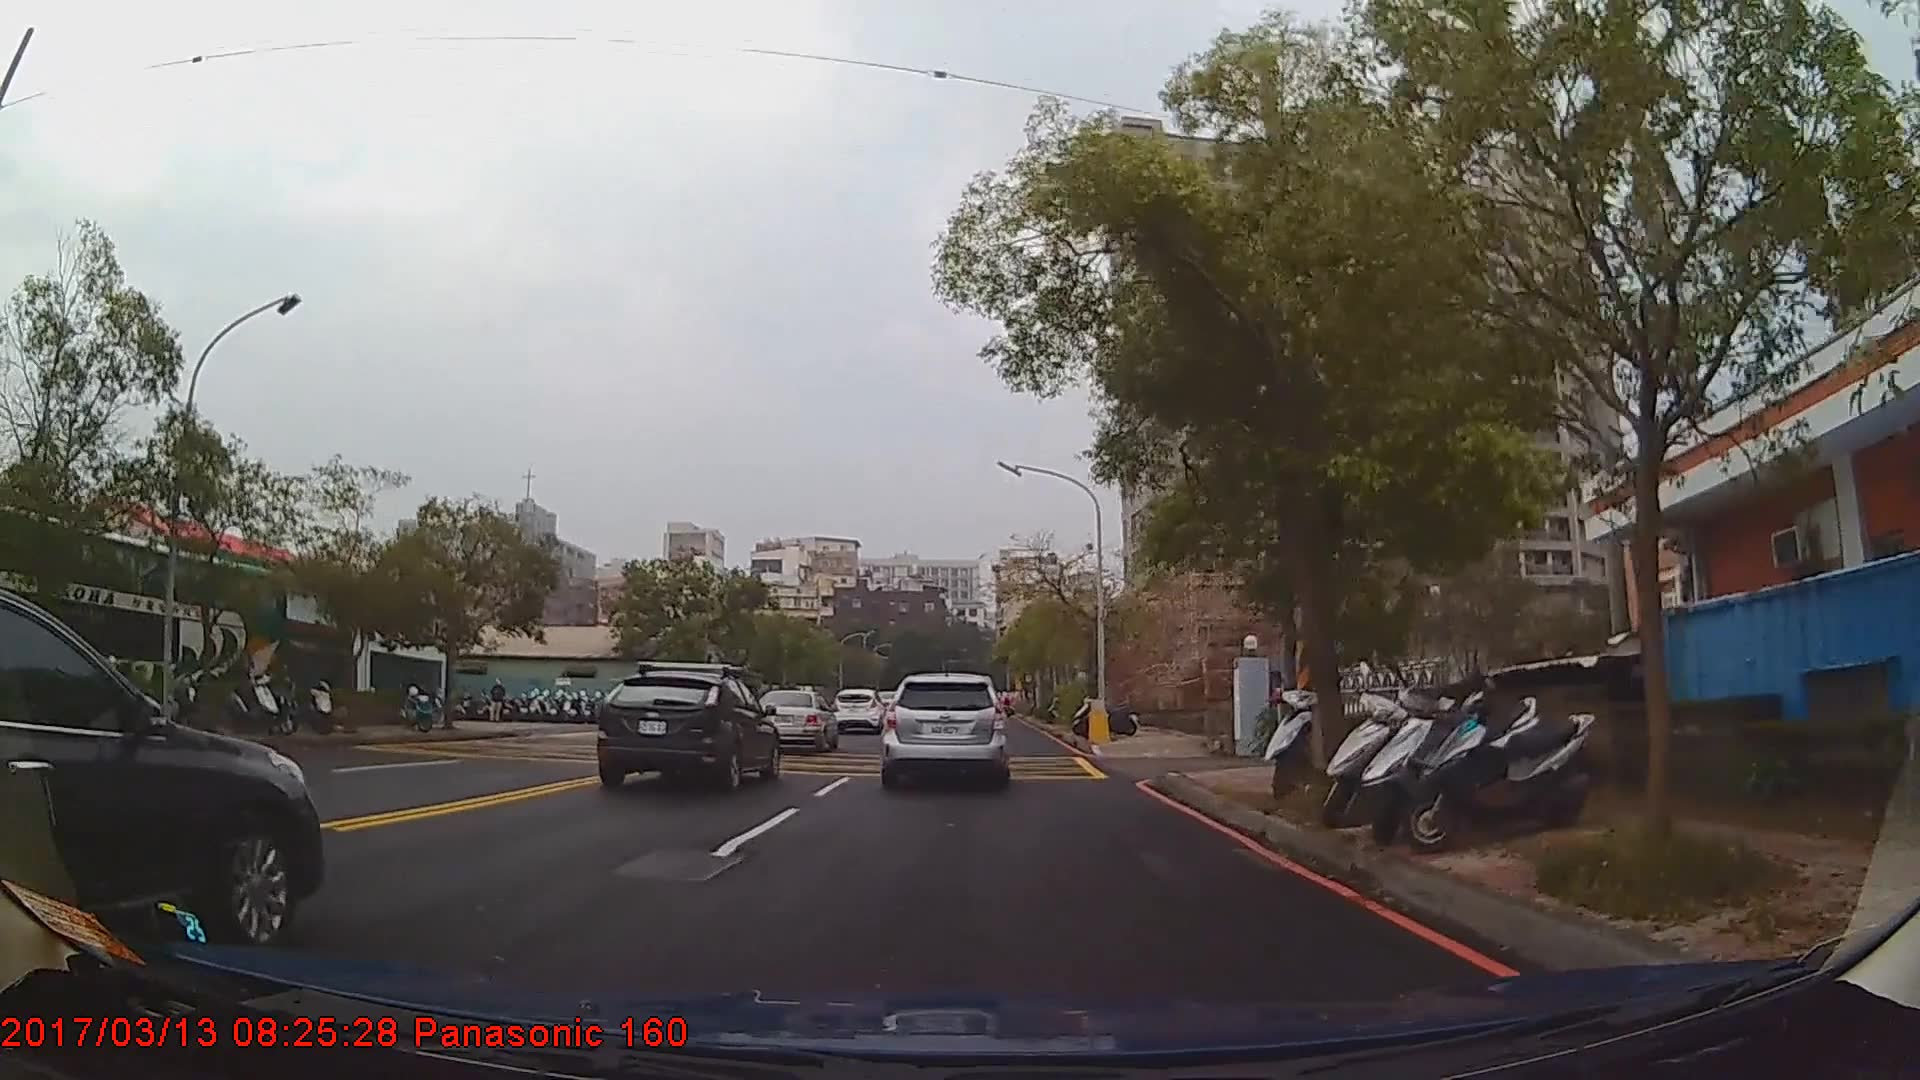vehicle: (0, 582, 324, 957), (0, 498, 282, 737), (593, 669, 779, 793), (882, 671, 1006, 789), (752, 686, 837, 752), (829, 686, 885, 732)
